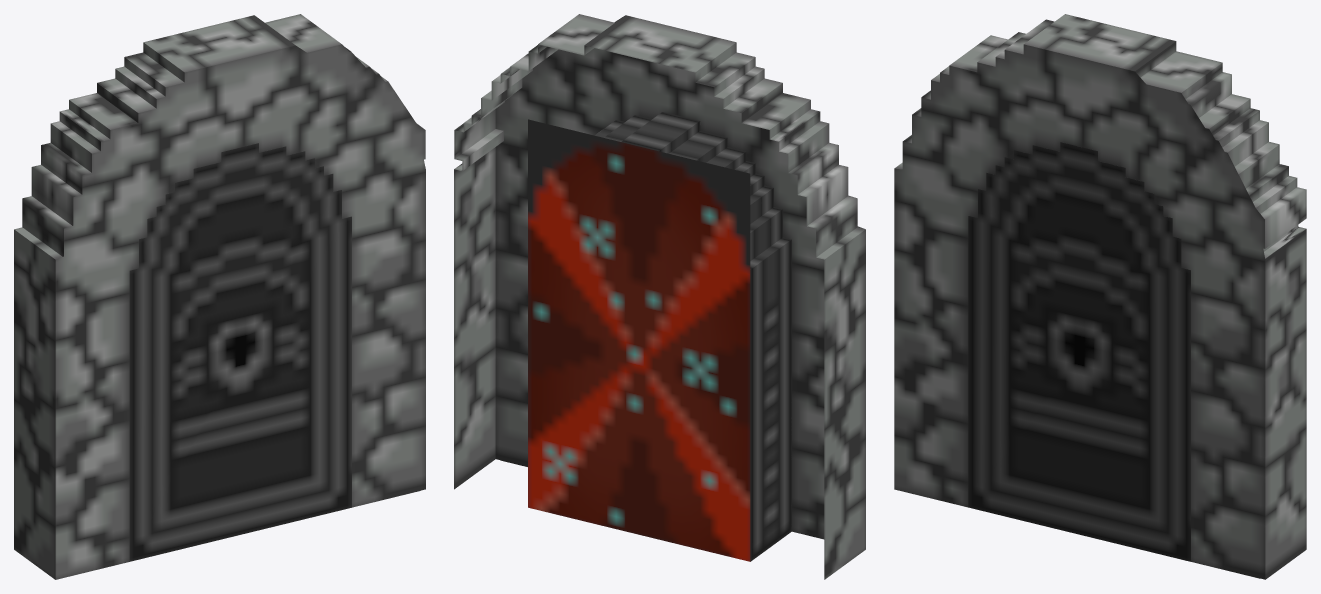
File: mod_time_med_doorframe.fbx
3 views of the same model, side by side, from view 1: azimuth 30°, elevation 25°; view 2: azimuth 150°, elevation 25°; view 3: azimuth 330°, elevation 25° (orthographic).
Visible parts, largest first — view 1: mod_time_med_doorframe, mod_time_med_door; view 2: mod_time_med_doorframe; view 3: mod_time_med_doorframe, mod_time_med_door.
Part boxes in pixels (box(x1,y1,x2,y2)): mod_time_med_doorframe: box(14, 14, 425, 579); mod_time_med_door: box(129, 143, 351, 561); mod_time_med_doorframe: box(454, 14, 865, 579); mod_time_med_doorframe: box(894, 14, 1306, 579); mod_time_med_door: box(968, 142, 1190, 561).
Bounding box in the file's own units: 16.68 × 20.48 × 3.23.
